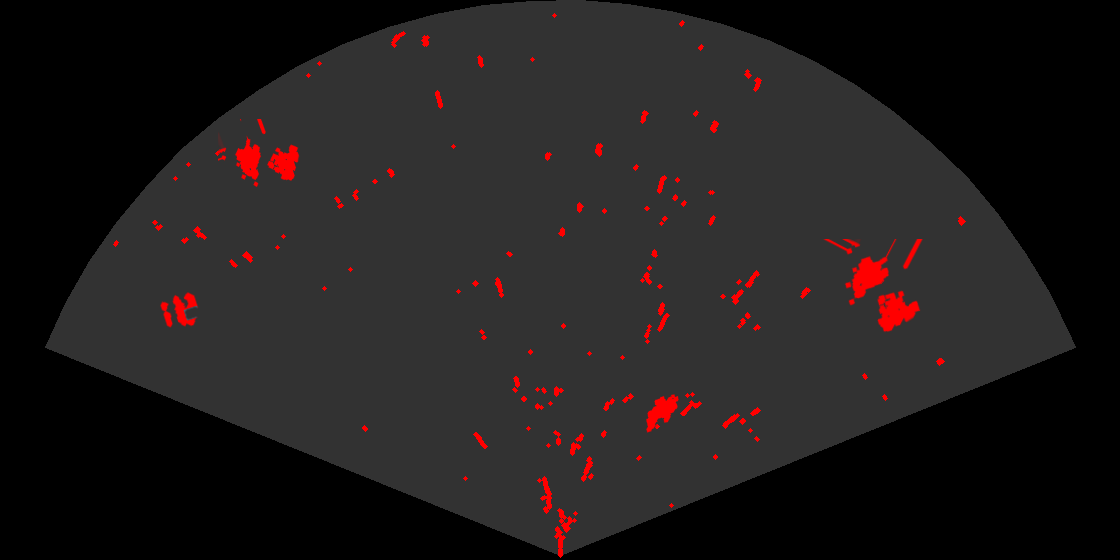AUV: (645, 393, 680, 434)
ball: (159, 291, 200, 329)
cage: (822, 239, 924, 334), (218, 119, 301, 189)
